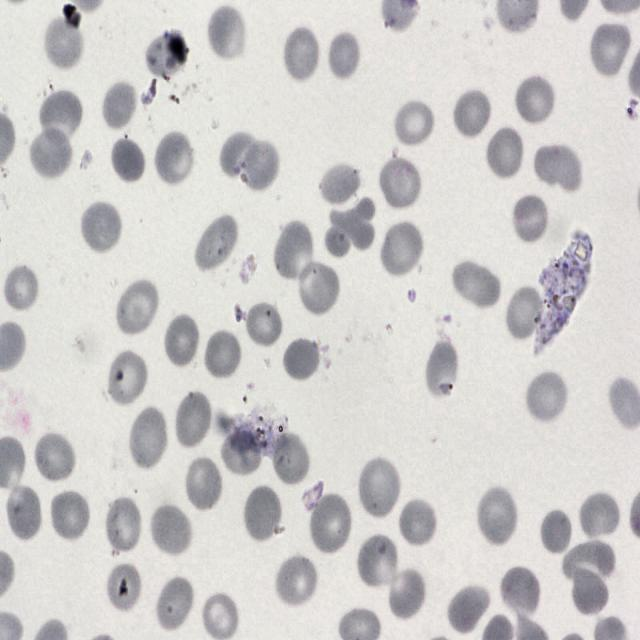red blood cell: (193, 211, 241, 275), (308, 491, 354, 556), (356, 456, 401, 522), (324, 197, 376, 254), (126, 405, 170, 472), (272, 218, 316, 285), (104, 346, 150, 410), (114, 275, 160, 338), (475, 483, 519, 548), (379, 219, 425, 280), (354, 528, 398, 591), (28, 122, 74, 180), (296, 259, 342, 317), (588, 21, 633, 80), (242, 483, 284, 545), (153, 574, 195, 636), (532, 142, 582, 194), (446, 582, 493, 637), (103, 494, 144, 557), (524, 369, 570, 425), (148, 502, 193, 559), (498, 565, 541, 624), (452, 255, 501, 306), (154, 129, 196, 188), (32, 430, 77, 485), (269, 431, 313, 486), (183, 454, 224, 513), (4, 482, 44, 542), (80, 200, 123, 255), (49, 488, 92, 543), (36, 90, 84, 139), (44, 13, 86, 69), (282, 25, 321, 84), (485, 124, 525, 181), (514, 73, 556, 127), (207, 1, 246, 59), (578, 491, 622, 542), (162, 312, 202, 368), (387, 566, 427, 622), (103, 563, 143, 619), (393, 97, 435, 150), (242, 296, 284, 349), (397, 496, 438, 550), (202, 328, 243, 381), (510, 192, 550, 245), (426, 336, 458, 402), (562, 543, 616, 582), (316, 160, 362, 205), (571, 564, 610, 617), (452, 88, 492, 139), (281, 335, 323, 383), (4, 261, 40, 316), (380, 157, 421, 205), (175, 393, 210, 449), (276, 558, 317, 605), (506, 288, 543, 340), (241, 141, 280, 190), (326, 27, 361, 81), (109, 136, 146, 187), (148, 32, 186, 79), (222, 429, 260, 476), (218, 134, 260, 174), (102, 77, 135, 126), (538, 507, 568, 558)
